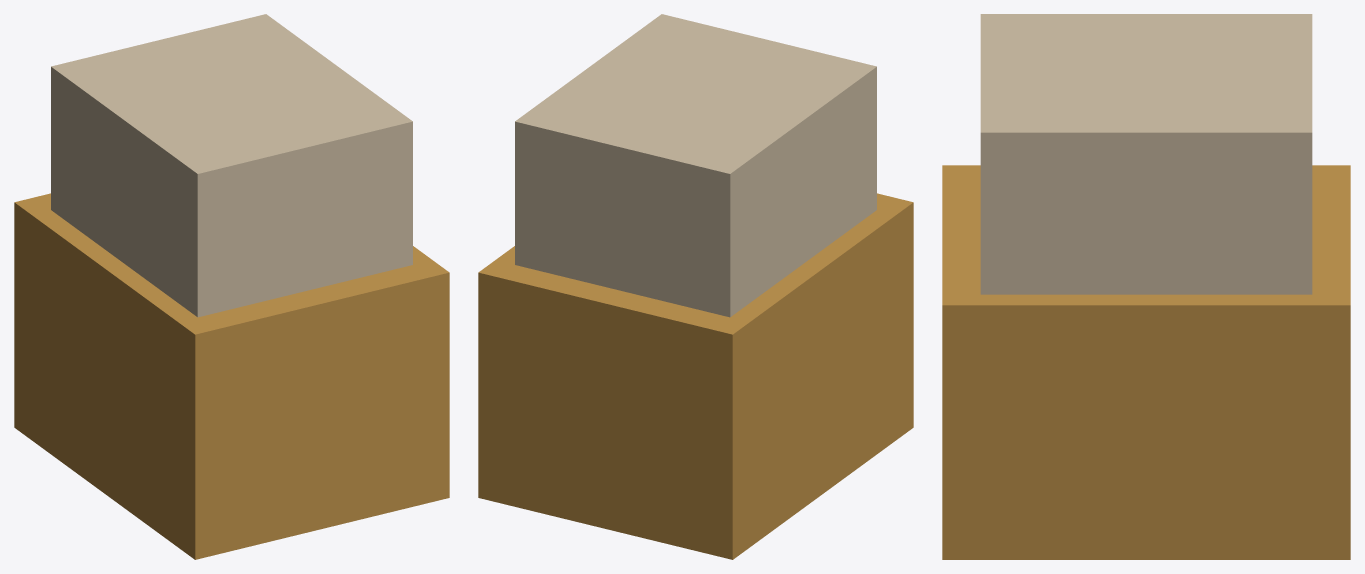
The model's file is crates.gltf.
3 views of the same model, side by side, from view 1: azimuth 30°, elevation 25°; view 2: azimuth 150°, elevation 25°; view 3: azimuth 270°, elevation 25° (orthographic). The views are drawn at different scales.
Parts seen in each view (by area): view 1: box, box.2; view 2: box, box.2; view 3: box, box.2.
Boxes of the visible parts, x1,y1,x2,y2 form: box: [14, 193, 449, 559]; box.2: [51, 14, 412, 317]; box: [478, 193, 913, 559]; box.2: [515, 14, 876, 317]; box: [942, 165, 1350, 559]; box.2: [980, 14, 1312, 294].
Size of the model in its own units: 1.3 by 1.8 by 1.6.
